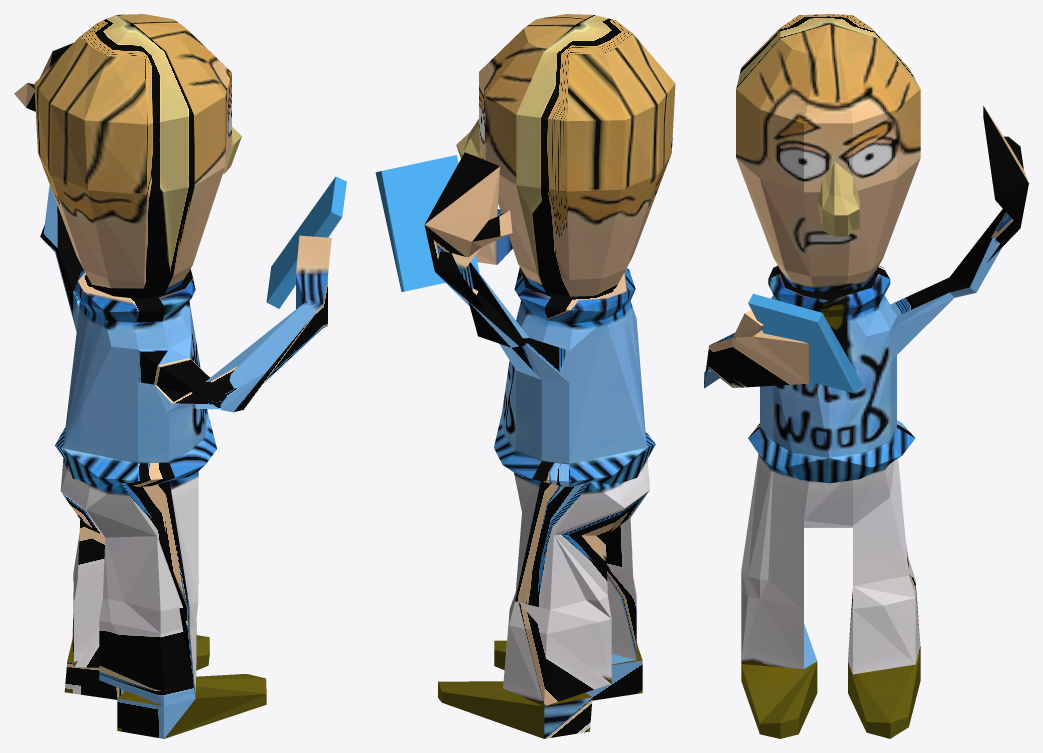
Rendered from PipSong.glb.
The picture shows the model from 3 angles, left to right: view 1: azimuth 30°, elevation 25°; view 2: azimuth 150°, elevation 25°; view 3: azimuth 270°, elevation 25°; orthographic projection. The views are drawn at different scales.
Visible parts, largest first — view 1: PipSong; view 2: PipSong; view 3: PipSong.
Boxes of the visible parts, box(x1,y1,x2,y2) form: PipSong: box(14, 14, 346, 738); PipSong: box(375, 14, 675, 738); PipSong: box(704, 14, 1028, 738).
Bounding box in the file's own units: 51.48 × 116 × 51.08.
1 material, 1 textured.
